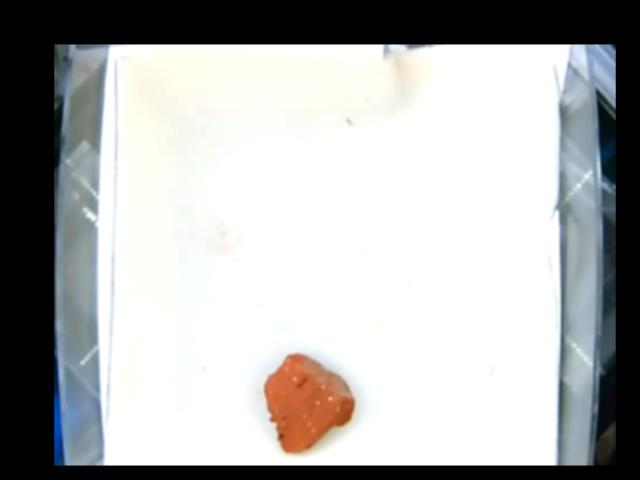Brisk: (263, 352, 354, 454)
